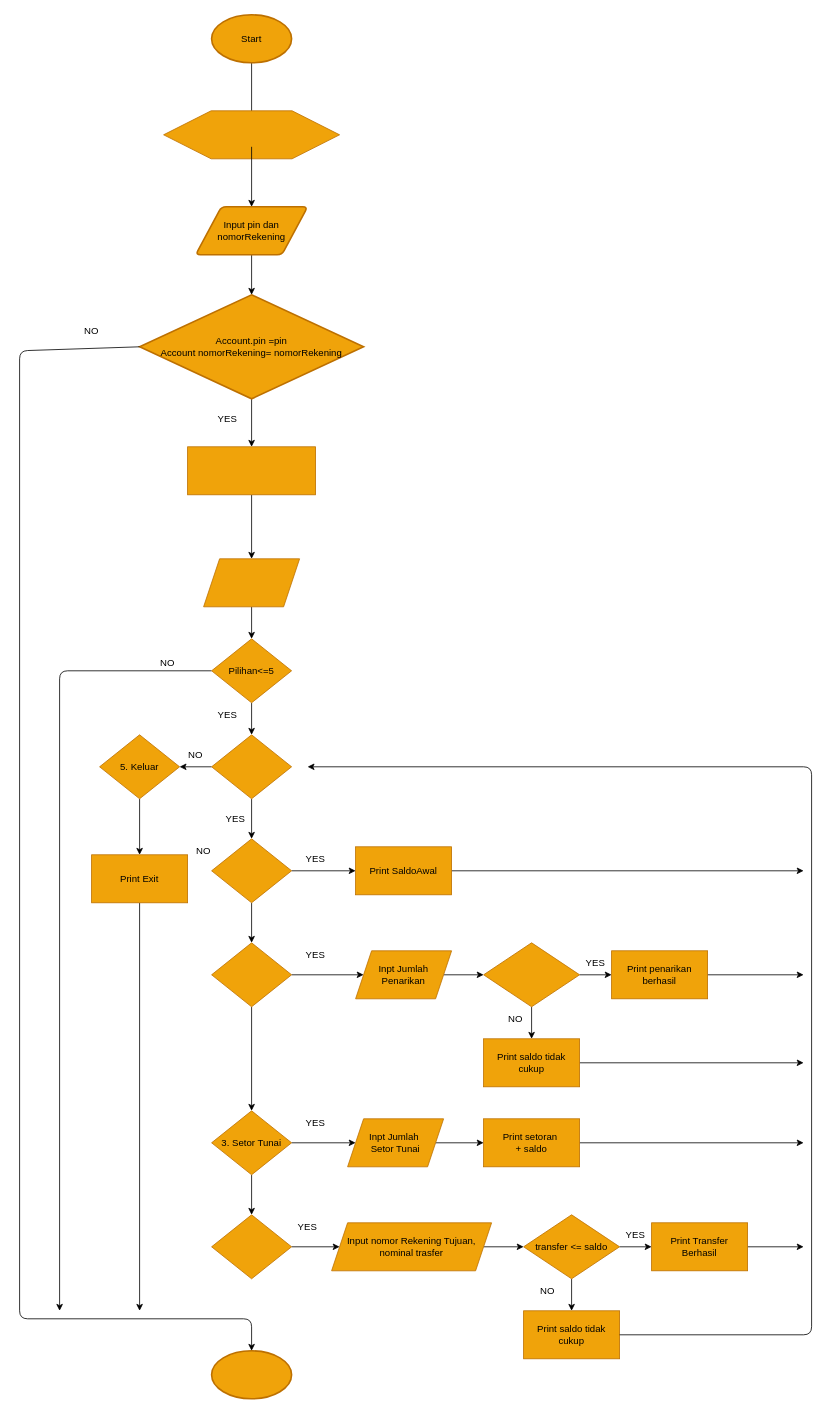
Some shapes in this 832 by 1413 pixel diagram are drawn without their labels. The centre of each missing label's shape, as x and y in pixels:
1. Cek Saldo: point 251,870
2. Tarik Tunai: point 251,974
4. Transfer: point 251,1246
CurrentAccount = account: point 251,470
Double saldoAwal int pin, nomorRekening Account[] account = {...}: point 251,134
End: point 251,1374
penarikan<=saldo: point 531,974
Pilihan Menu: point 251,582
Pilihan<5: point 251,766
